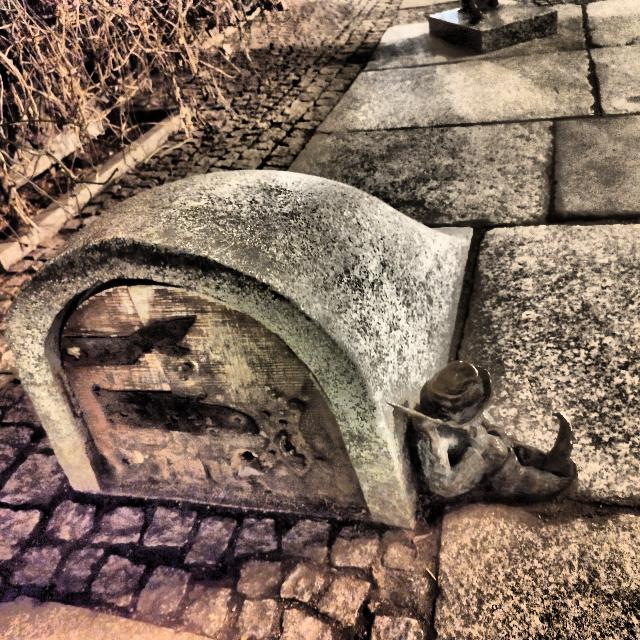Spioch: (391, 361, 576, 501)
